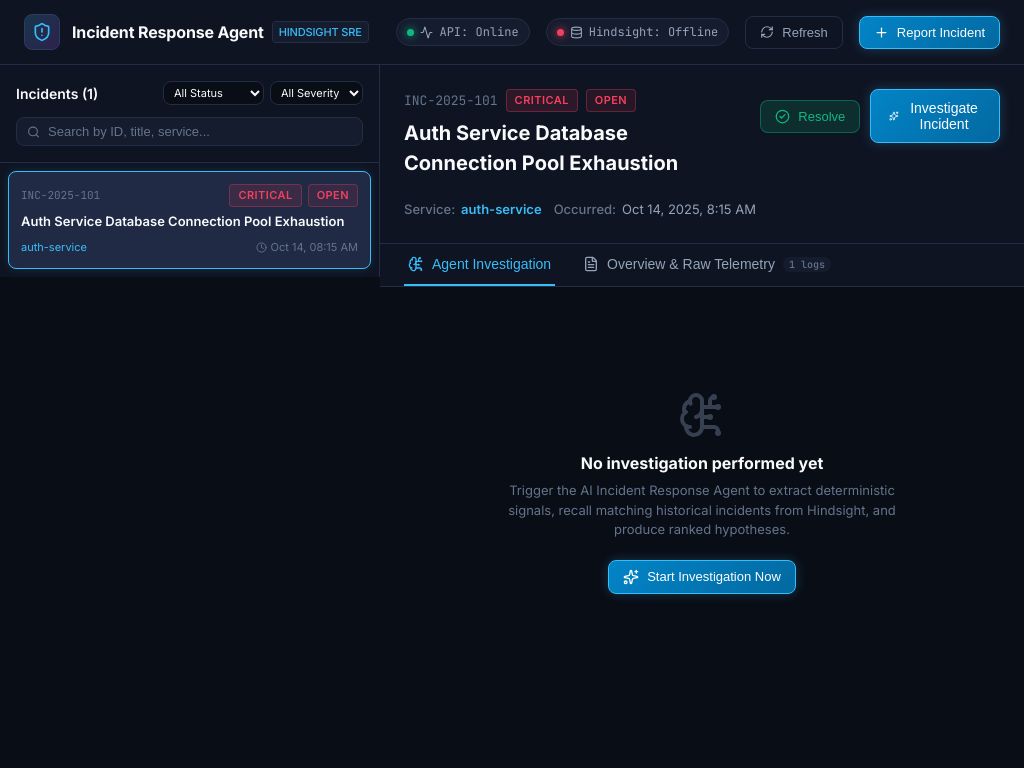
Test: App Dashboard Integration › displays investigation failure message when backend returns an error
Step 1. Click the button "Investigate Incident" → [935, 116], box [870,89,1000,143]
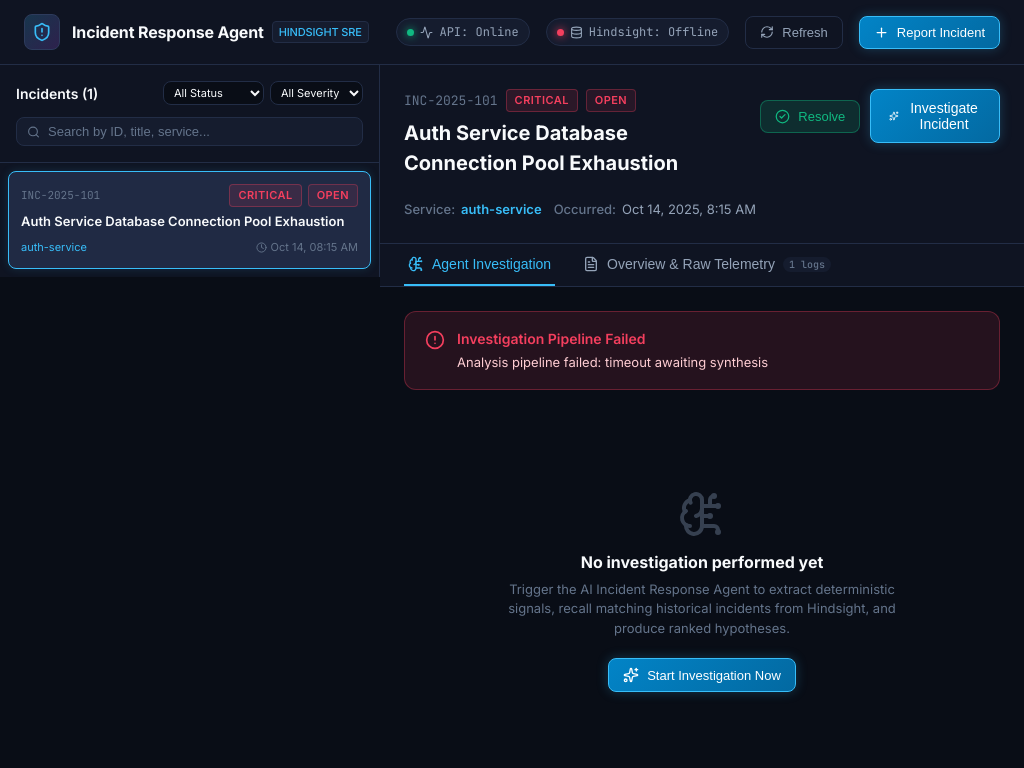
Now the text "Investigation Pipeline Failed" is shown, box [457,330,646,347]
Now the text "Analysis pipeline failed: timeout awaiting synthesis" is shown, box [457,353,768,372]
